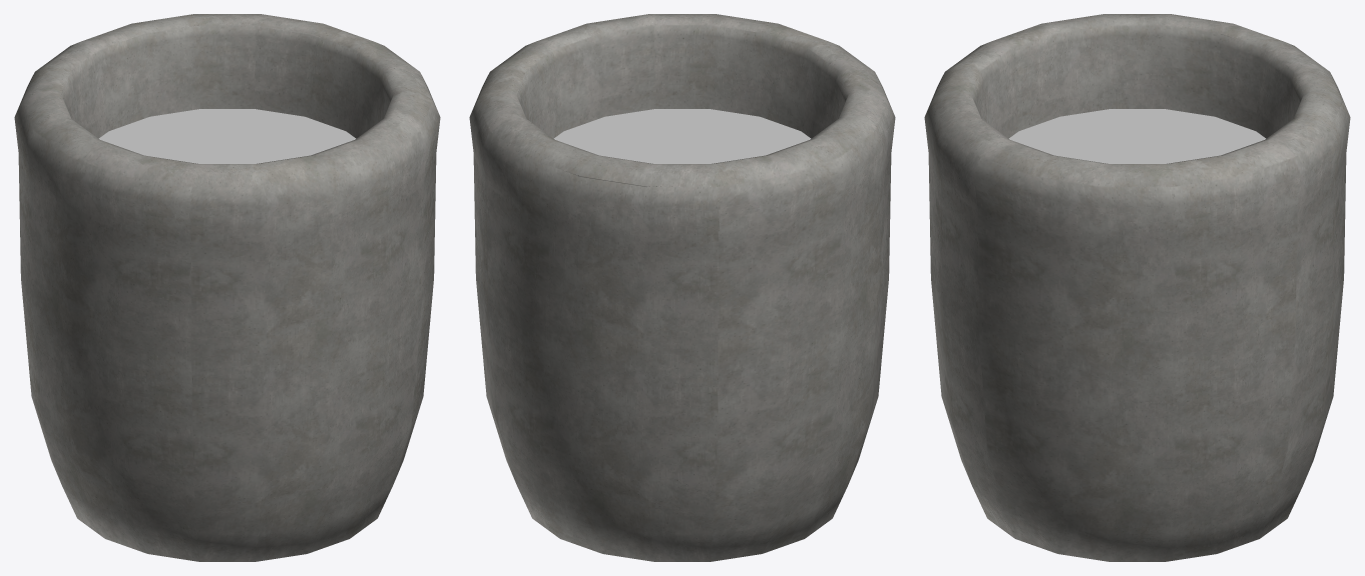
The model's file is Crucible_IngotMolten.glb.
3 views of the same model, side by side, from view 1: azimuth 30°, elevation 25°; view 2: azimuth 150°, elevation 25°; view 3: azimuth 270°, elevation 25° (orthographic).
Parts seen in each view (by area): view 1: Circle; view 2: Circle; view 3: Circle.
Boxes of the visible parts, x1,y1,x2,y2 form: Circle: (14, 14, 440, 561); Circle: (469, 14, 895, 561); Circle: (924, 14, 1350, 561).
Bounding box in the file's own units: 2.14 × 2.36 × 2.17.
1 material, 1 textured.
